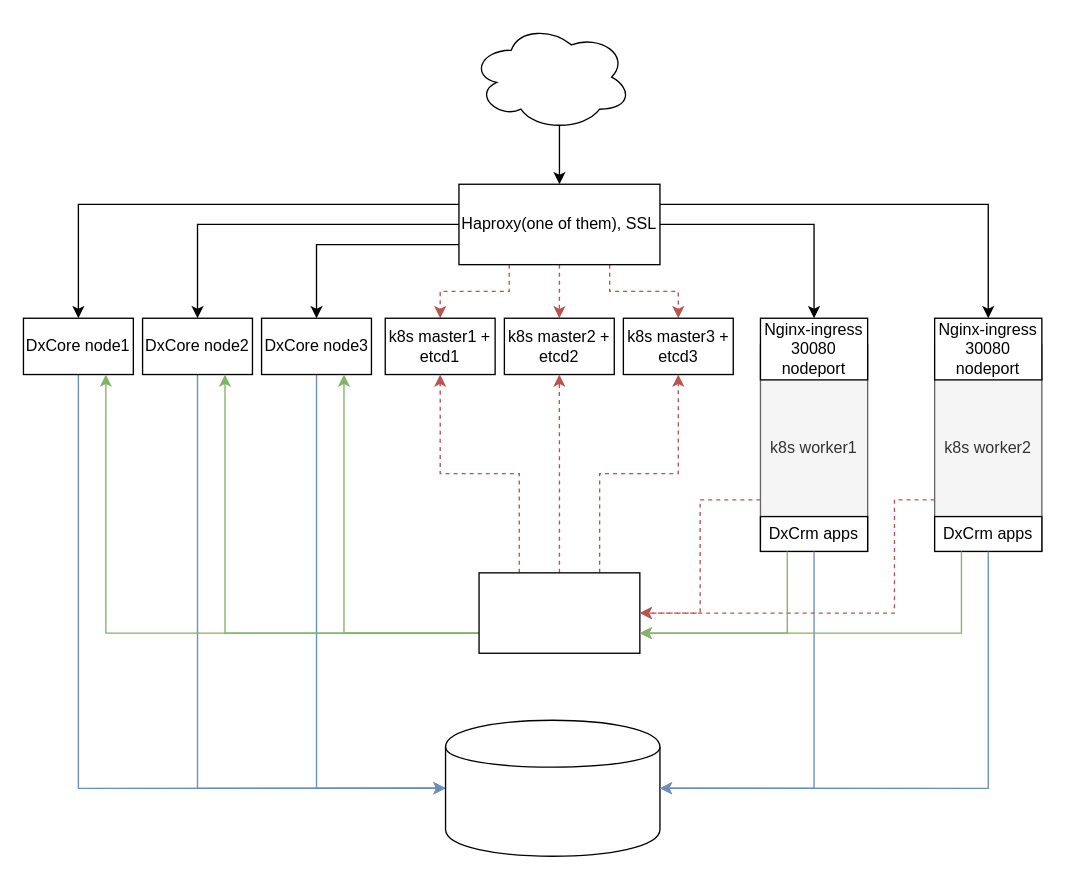
Image size: 1065x880. Some labels were removed from this diagram. The centre of each missing label's shape, as x and y in pixels:
Internal lb: point 559,612
Internet: point 551,76
Patroni Postgres Cluster: point 552,787
